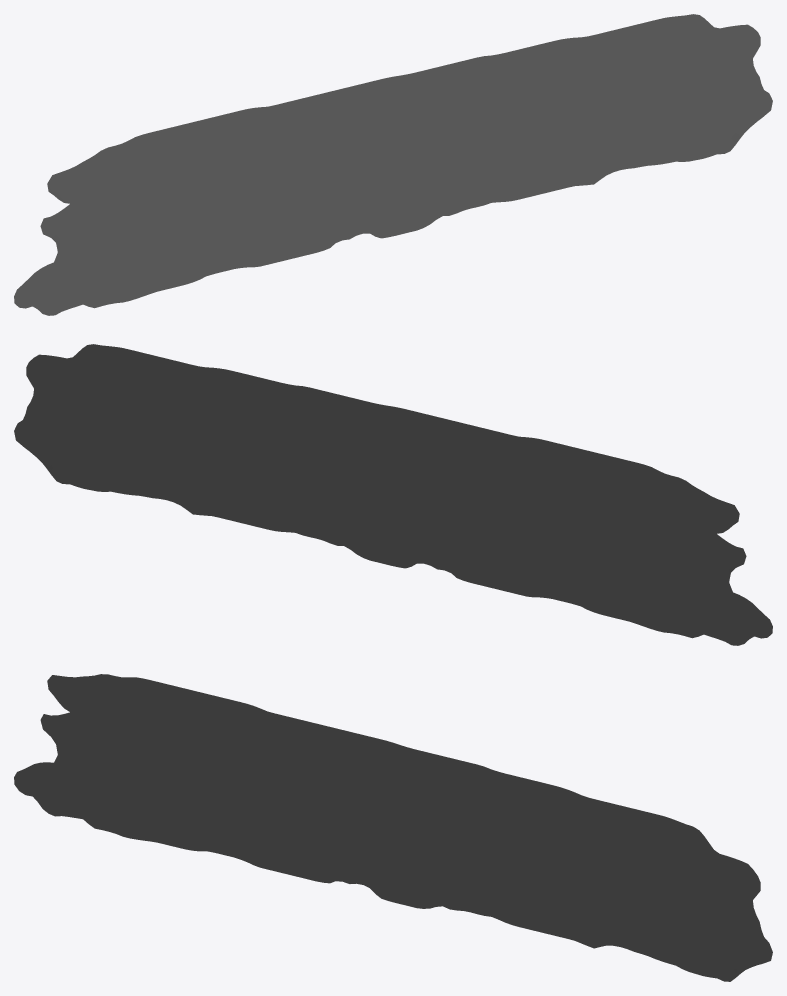
The model's file is strokes.glb.
3 views of the same model, one above another, from view 1: azimuth 30°, elevation 25°; view 2: azimuth 150°, elevation 25°; view 3: azimuth 330°, elevation 25° (orthographic).
Visible parts, largest first — view 1: stroke -01; view 2: stroke -01; view 3: stroke -01.
Boxes of the visible parts, left/top/right/bottom form: stroke -01: left=14, top=14, right=772, bottom=315; stroke -01: left=14, top=344, right=772, bottom=645; stroke -01: left=14, top=674, right=772, bottom=981.
Size of the model in its own units: 0.9466 by 0.1947 by 0.
Materials: 1 (1 with a texture image).
